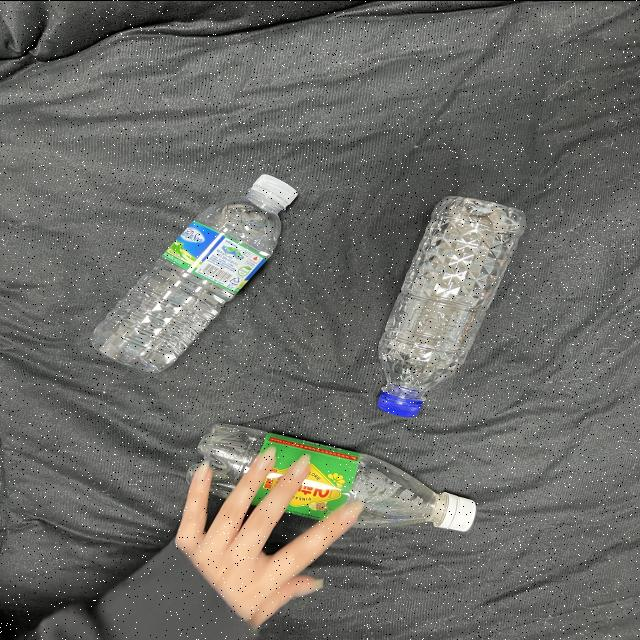plastic: (78, 156, 323, 380), (177, 407, 503, 553), (352, 182, 543, 422)
